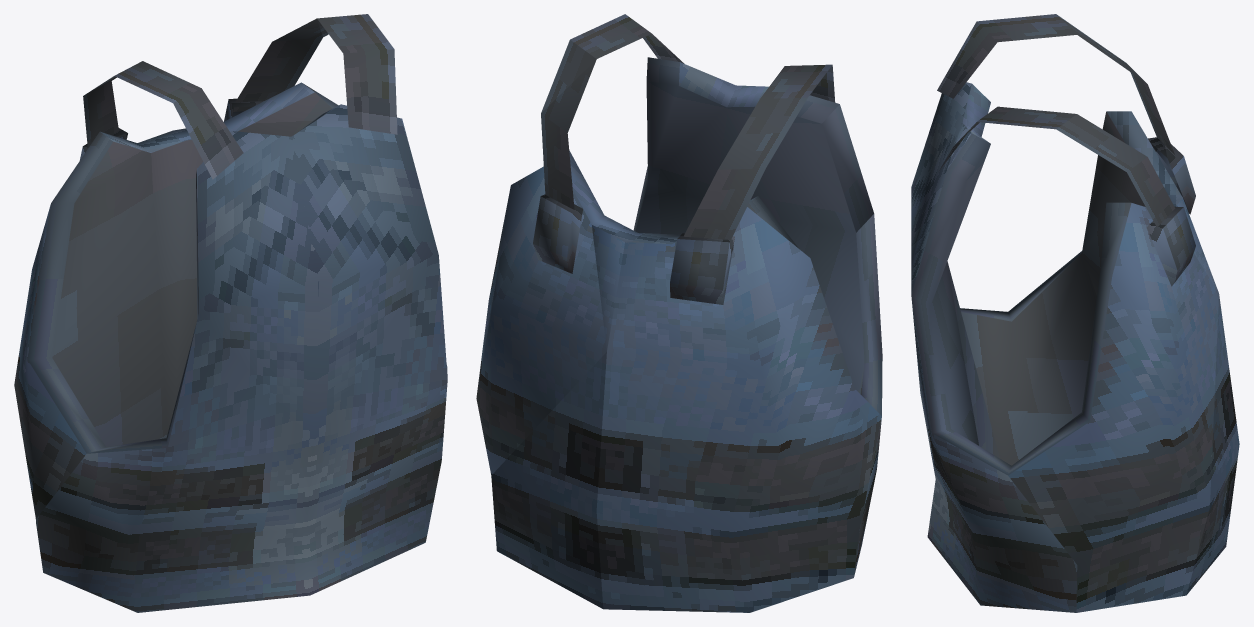
File: Armour.fbx
3 views of the same model, side by side, from view 1: azimuth 30°, elevation 25°; view 2: azimuth 150°, elevation 25°; view 3: azimuth 270°, elevation 25° (orthographic). The views are drawn at different scales.
Parts seen in each view (by area): view 1: armour; view 2: armour; view 3: armour.
Boxes of the visible parts, x1,y1,x2,y2 form: armour: [14, 14, 447, 612]; armour: [476, 14, 882, 612]; armour: [911, 14, 1239, 612].
Bounding box in the file's own units: 43.91 × 55.12 × 34.34.
1 material, 1 textured.
